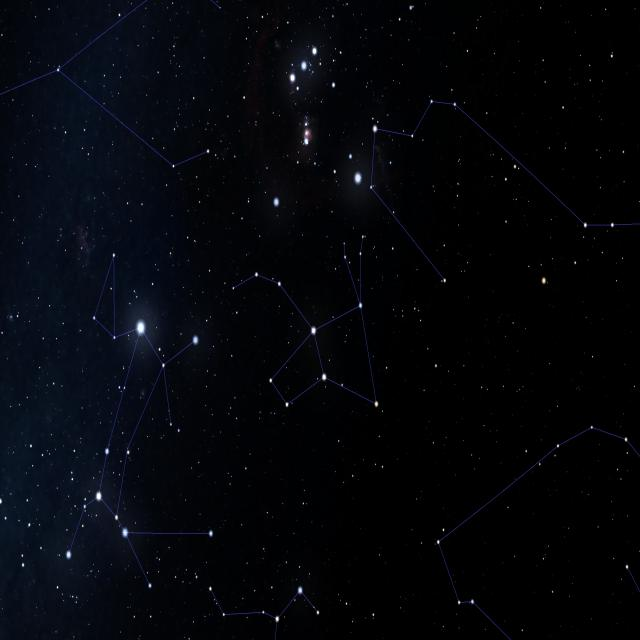Lepus: (228, 228, 378, 431)
